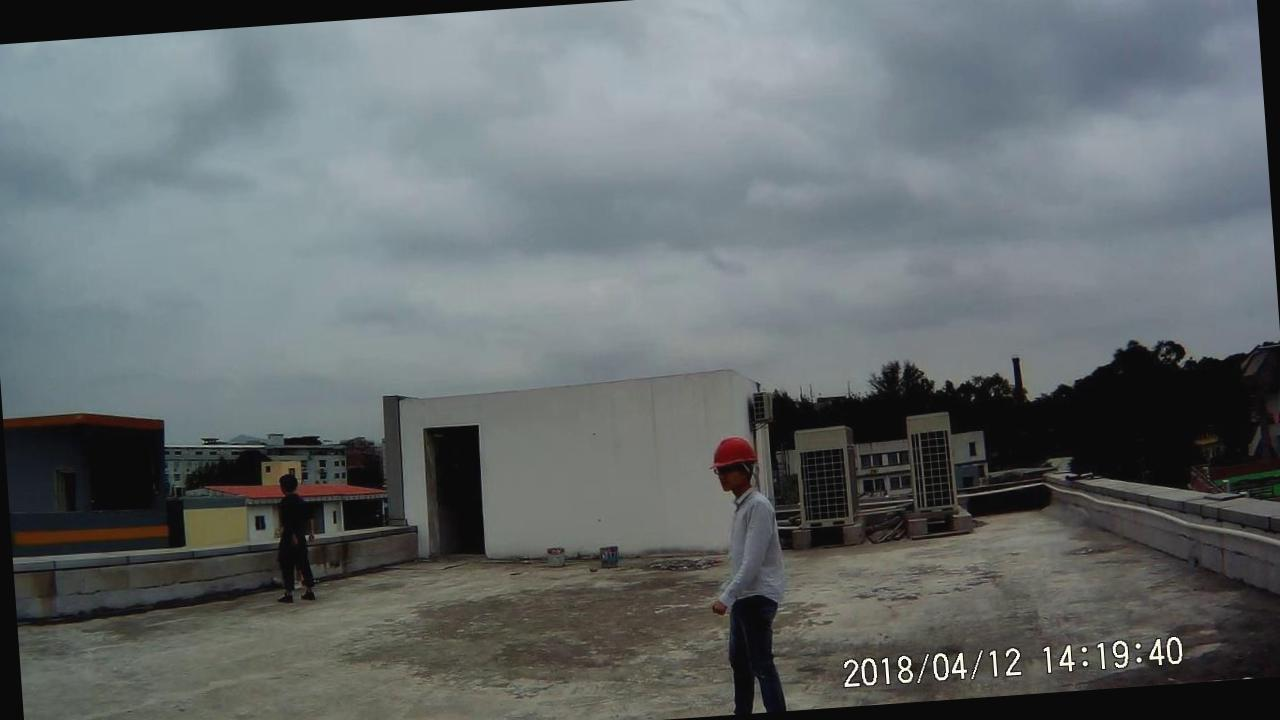helmet: (700, 432, 760, 478)
no_vest: (710, 490, 790, 616)
person: (686, 422, 807, 708), (246, 671, 248, 672)
